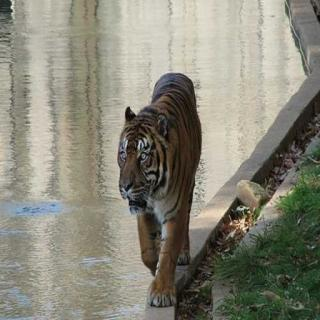Tiger: (112, 65, 214, 309)
